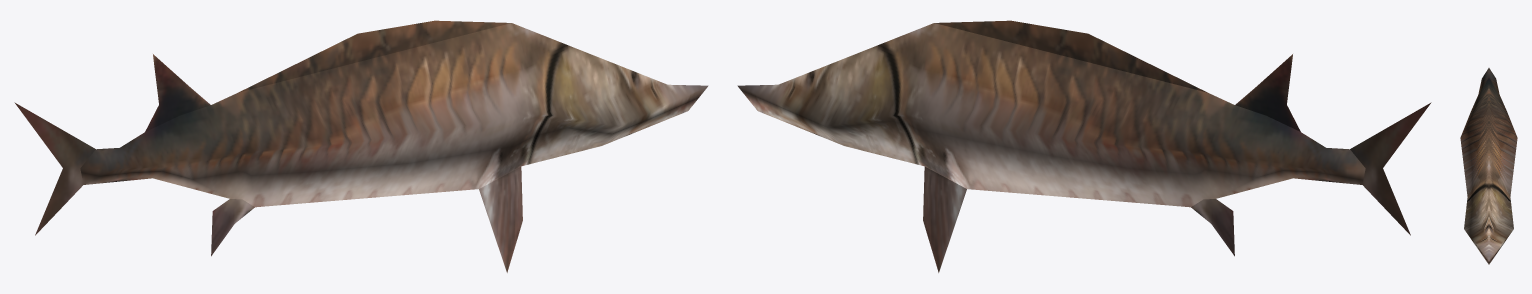
Rendered from sturgeon.obj.
3 renders of one model, left to right at view 1: azimuth 30°, elevation 25°; view 2: azimuth 150°, elevation 25°; view 3: azimuth 270°, elevation 25°, orthographic. The views are drawn at different scales.
Bounding box in the file's own units: 2.88 × 1.21 × 0.4107.
Materials: 1 (1 with a texture image).
